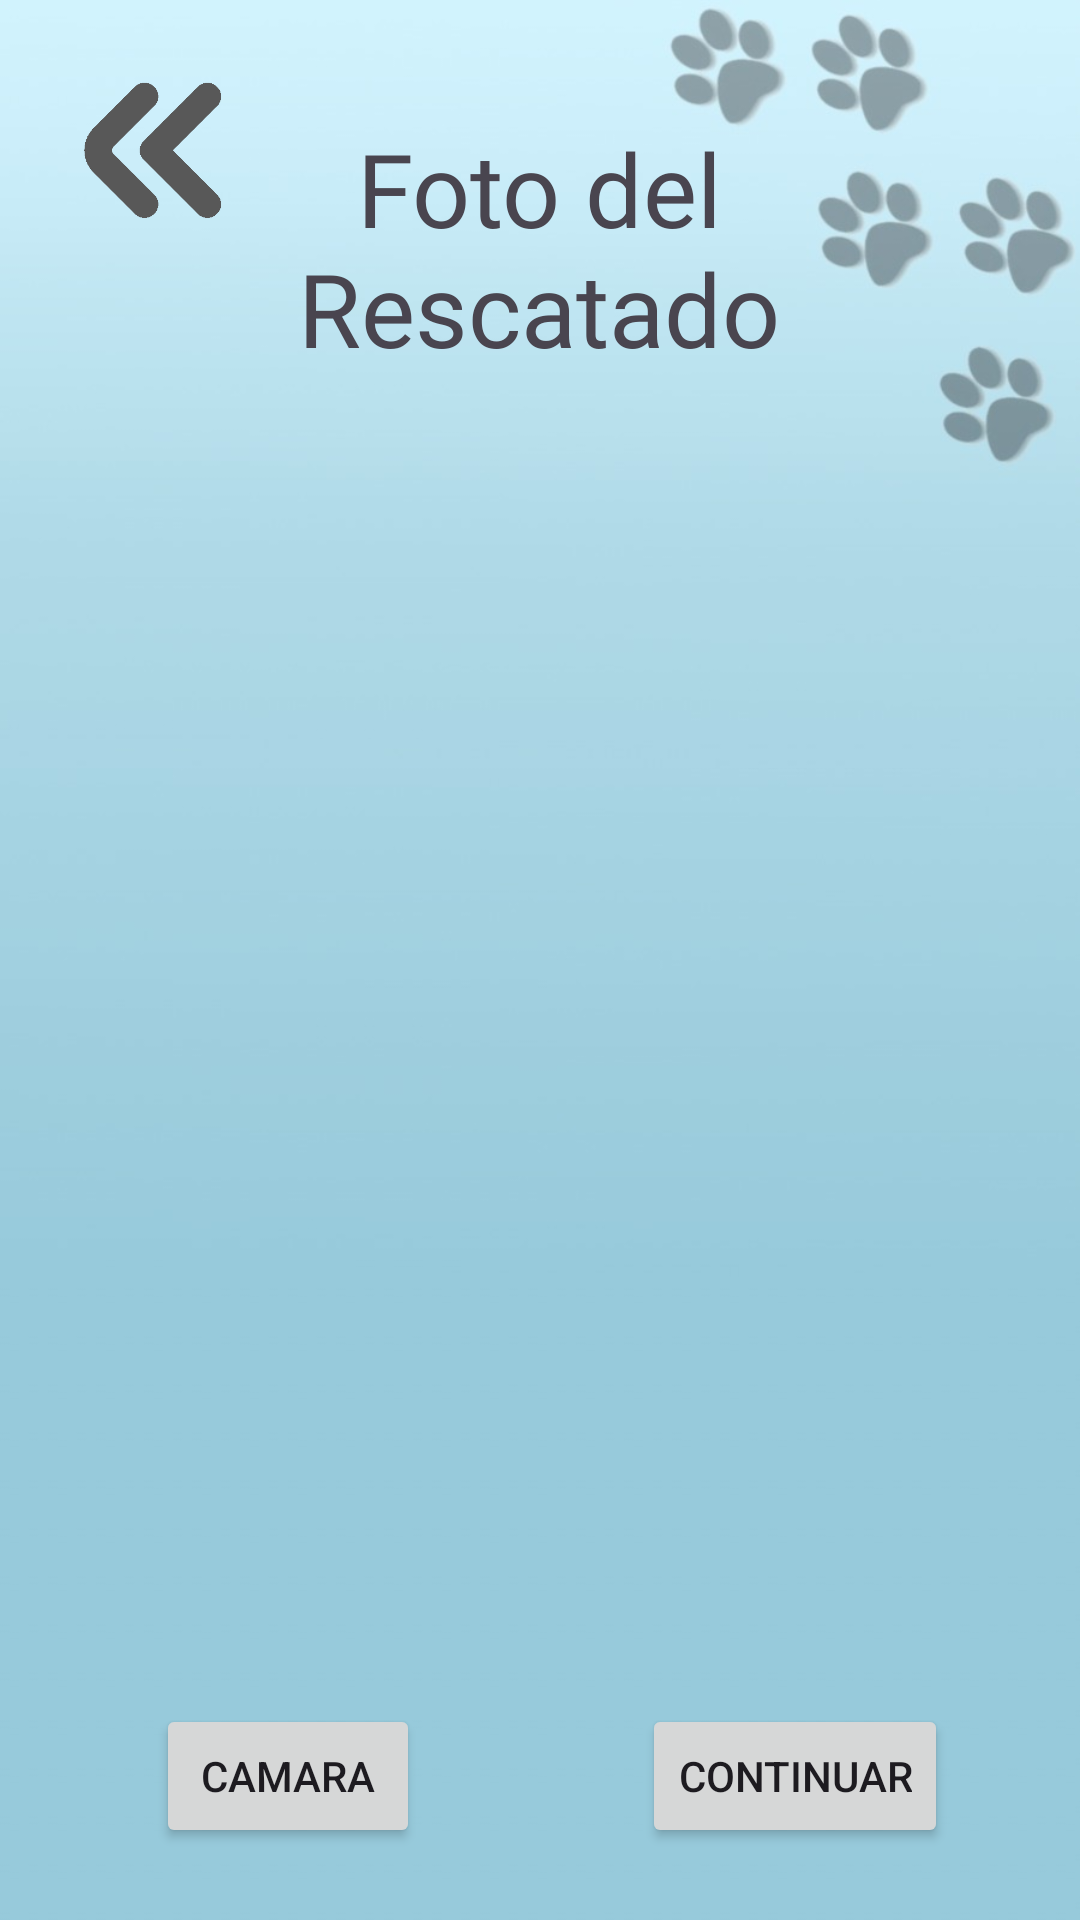

Named icons in this screenshot (1080px×1920px) and their bounding boxes, (x1, y1, x2, y2):
regresar: (84, 83, 221, 218)
